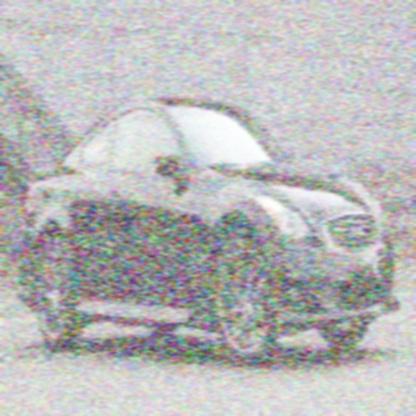Vehicle: (16, 98, 403, 370)
